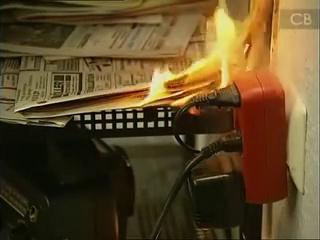Fire: (114, 1, 276, 120)
